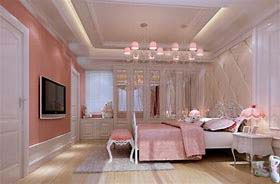copymove: (122, 21, 163, 65)
removal: (47, 53, 68, 80)
spliced: (252, 152, 280, 184)
